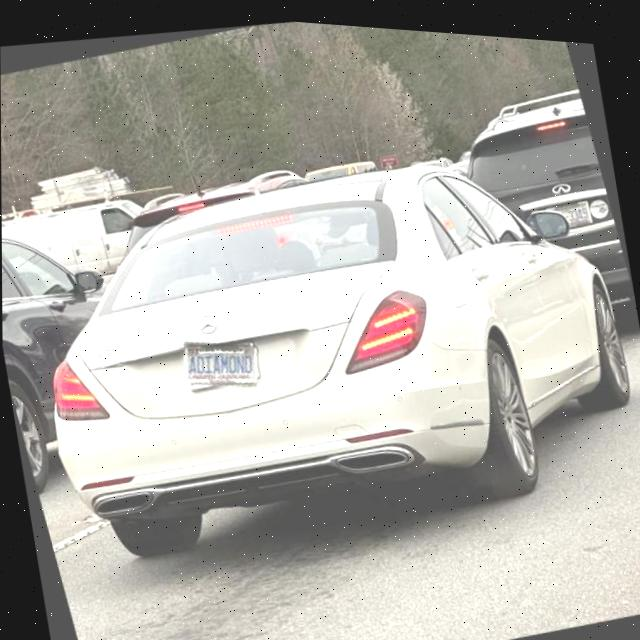LicensePlate: (183, 343, 258, 382)
